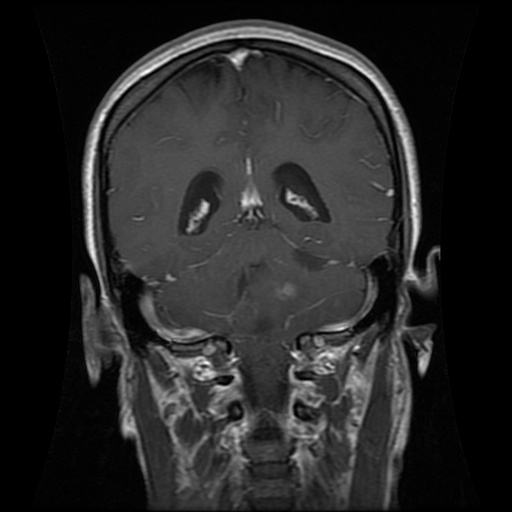glioma: (271, 272, 315, 308)
